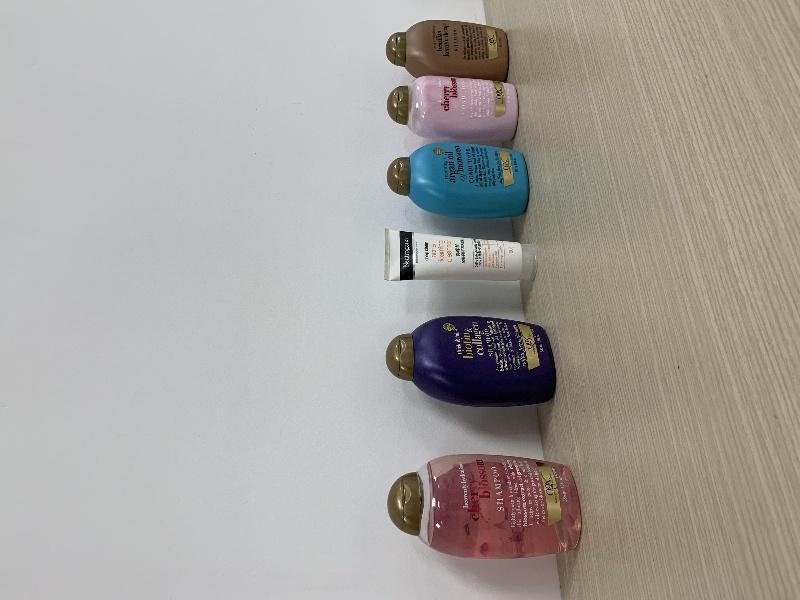AcneFoamingCleanser: (385, 228, 538, 281)
ArganOilOfMorocco_Conditioner: (387, 141, 530, 219)
BiotinCollagen_Shampoo: (386, 315, 556, 407)
BrazilianKeratinTherapy_Shampoo: (386, 20, 509, 76)
CherryBlossom_Conditioner: (388, 76, 519, 142)
CherryBlossom_Shampoo: (387, 453, 582, 559)
